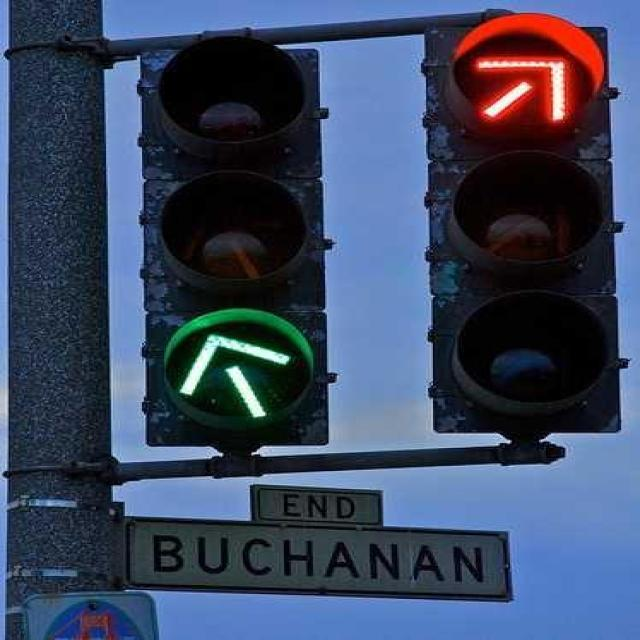Traffic Light -Green-: (137, 27, 337, 456)
Traffic Light -Red-: (432, 0, 626, 457)
